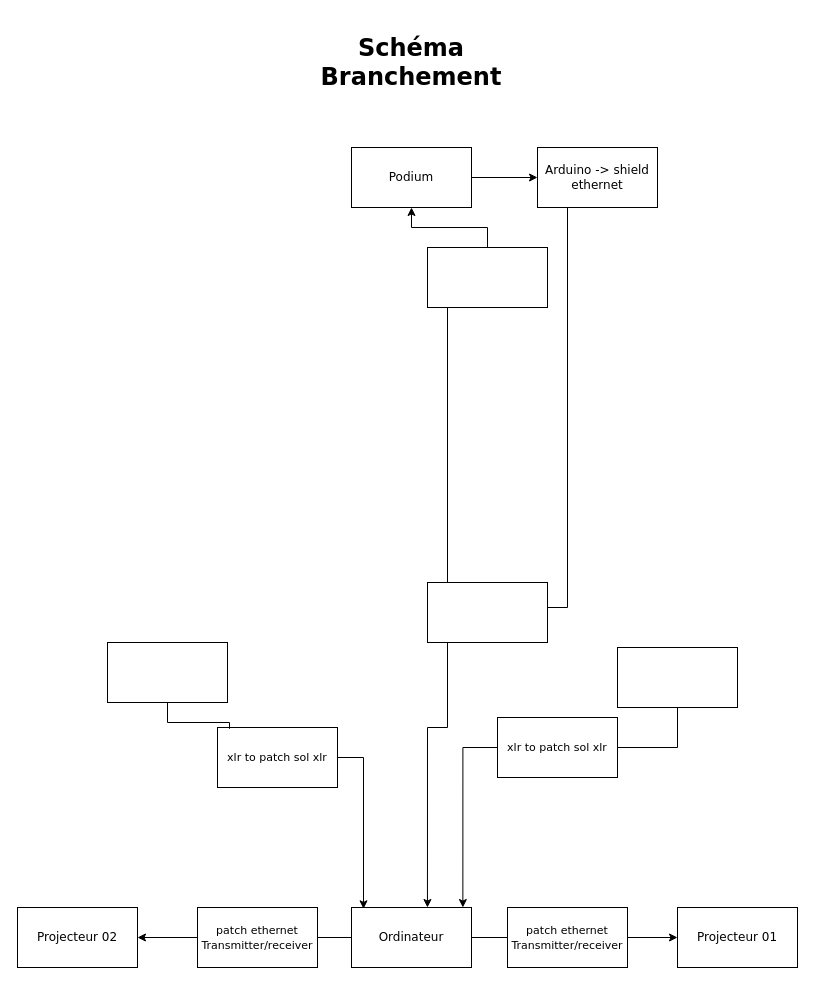
Image size: 815x985. Some labels were removed from this diagram. Here are the shapes that lost their labels. From the top down, the centre of each, then its label:
At point 487,277: "HDMI -> Receiver".
At point 487,612: "patch ethernet sol".
At point 167,672: "left speaker".
At point 677,677: "Right speaker".
